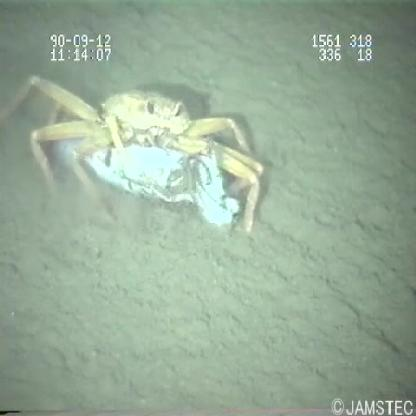Bio: (1, 69, 269, 237)
